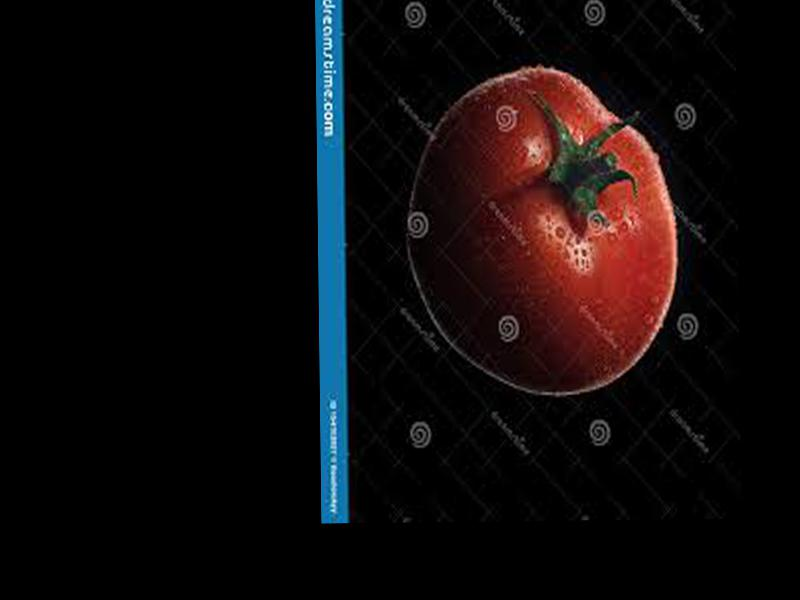Tomato: (407, 64, 679, 399)
